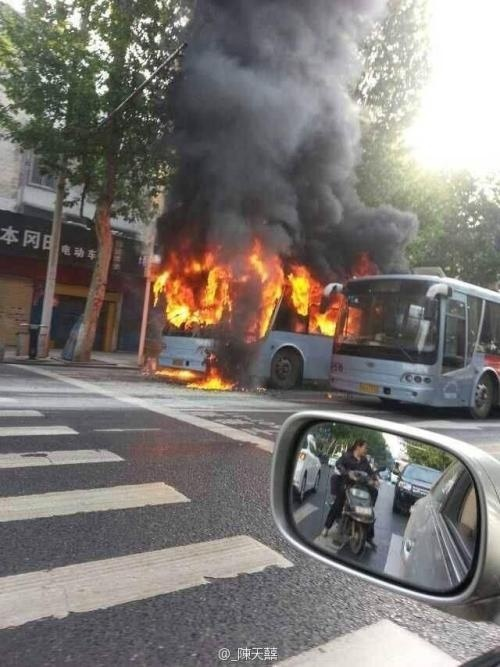fire: (150, 235, 369, 376)
